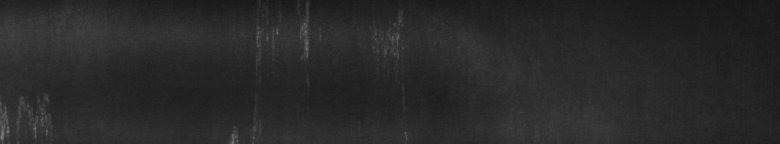ka: (229, 4, 407, 136)
